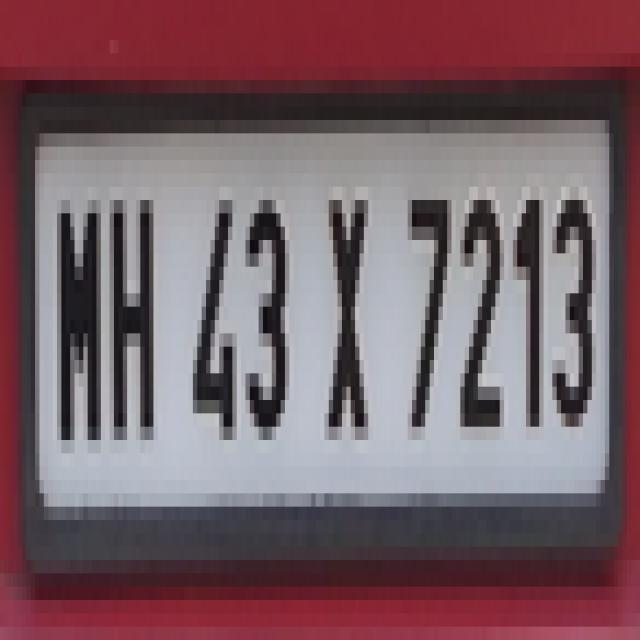1: (511, 188, 548, 442)
3: (245, 194, 289, 440), (554, 186, 596, 435)
4: (187, 188, 240, 444)
7: (408, 162, 458, 438)
H: (108, 195, 166, 450)
M: (51, 199, 109, 468)
X: (322, 172, 380, 452)
